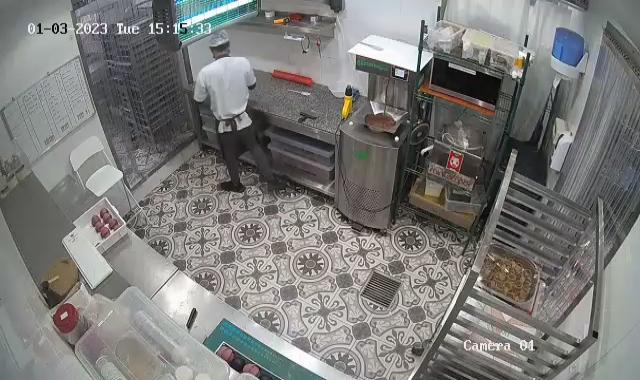hairnet: (208, 29, 232, 52)
